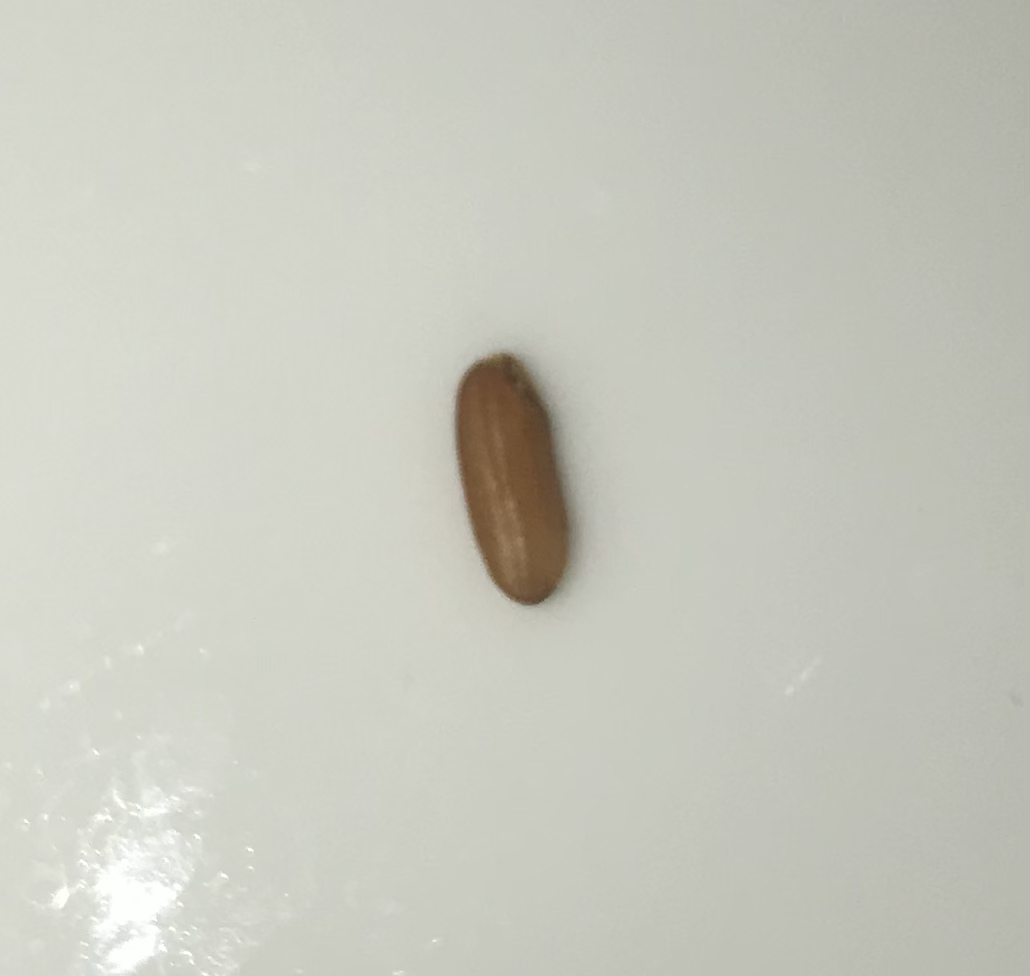Gao Lut Dien Bien: (446, 326, 589, 619)
